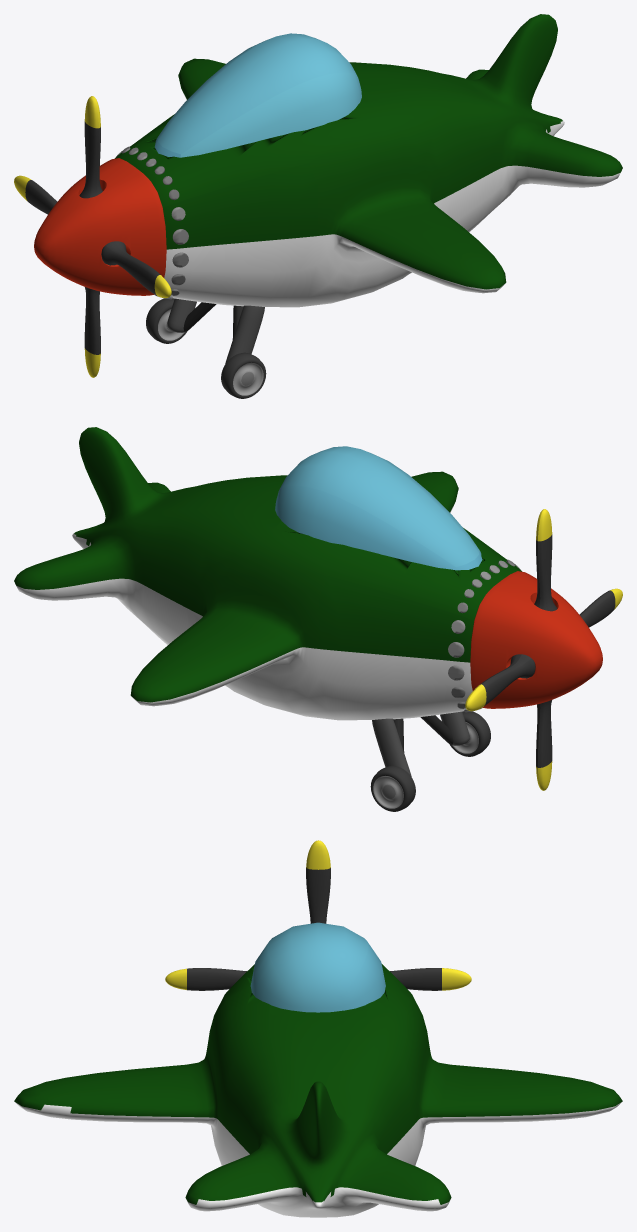
File: styloo-plancestylized.glb
3 views of the same model, one above another, from view 1: azimuth 30°, elevation 25°; view 2: azimuth 150°, elevation 25°; view 3: azimuth 270°, elevation 25° (orthographic).
Parts seen in each view (by area): view 1: Cube.026, Cube.027, Cube.029, Cylinder.002; view 2: Cube.026, Cube.027, Cube.029, Cylinder.002; view 3: Cube.026, Cube.029, Cube.027.
Part boxes in pixels (<box>): Cube.026: <box>115,14,622,363</box>; Cube.027: <box>14,96,171,377</box>; Cube.029: <box>154,33,361,157</box>; Cylinder.002: <box>146,298,266,398</box>; Cube.026: <box>14,427,521,776</box>; Cube.027: <box>465,509,622,790</box>; Cube.029: <box>275,446,482,570</box>; Cylinder.002: <box>370,711,490,811</box>; Cube.026: <box>14,964,622,1217</box>; Cube.029: <box>250,922,385,1012</box>; Cube.027: <box>165,840,471,990</box>.
Size of the model in its own units: 4.38 by 2.43 by 4.43.
Materials: 1 (1 with a texture image).
